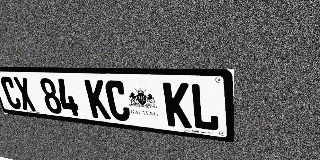4: (54, 78, 80, 116)
8: (38, 78, 63, 114)
C: (104, 80, 131, 122), (0, 76, 23, 110)
K: (163, 82, 192, 129), (84, 79, 111, 120)
L: (190, 83, 219, 132)
X: (12, 77, 37, 111)
